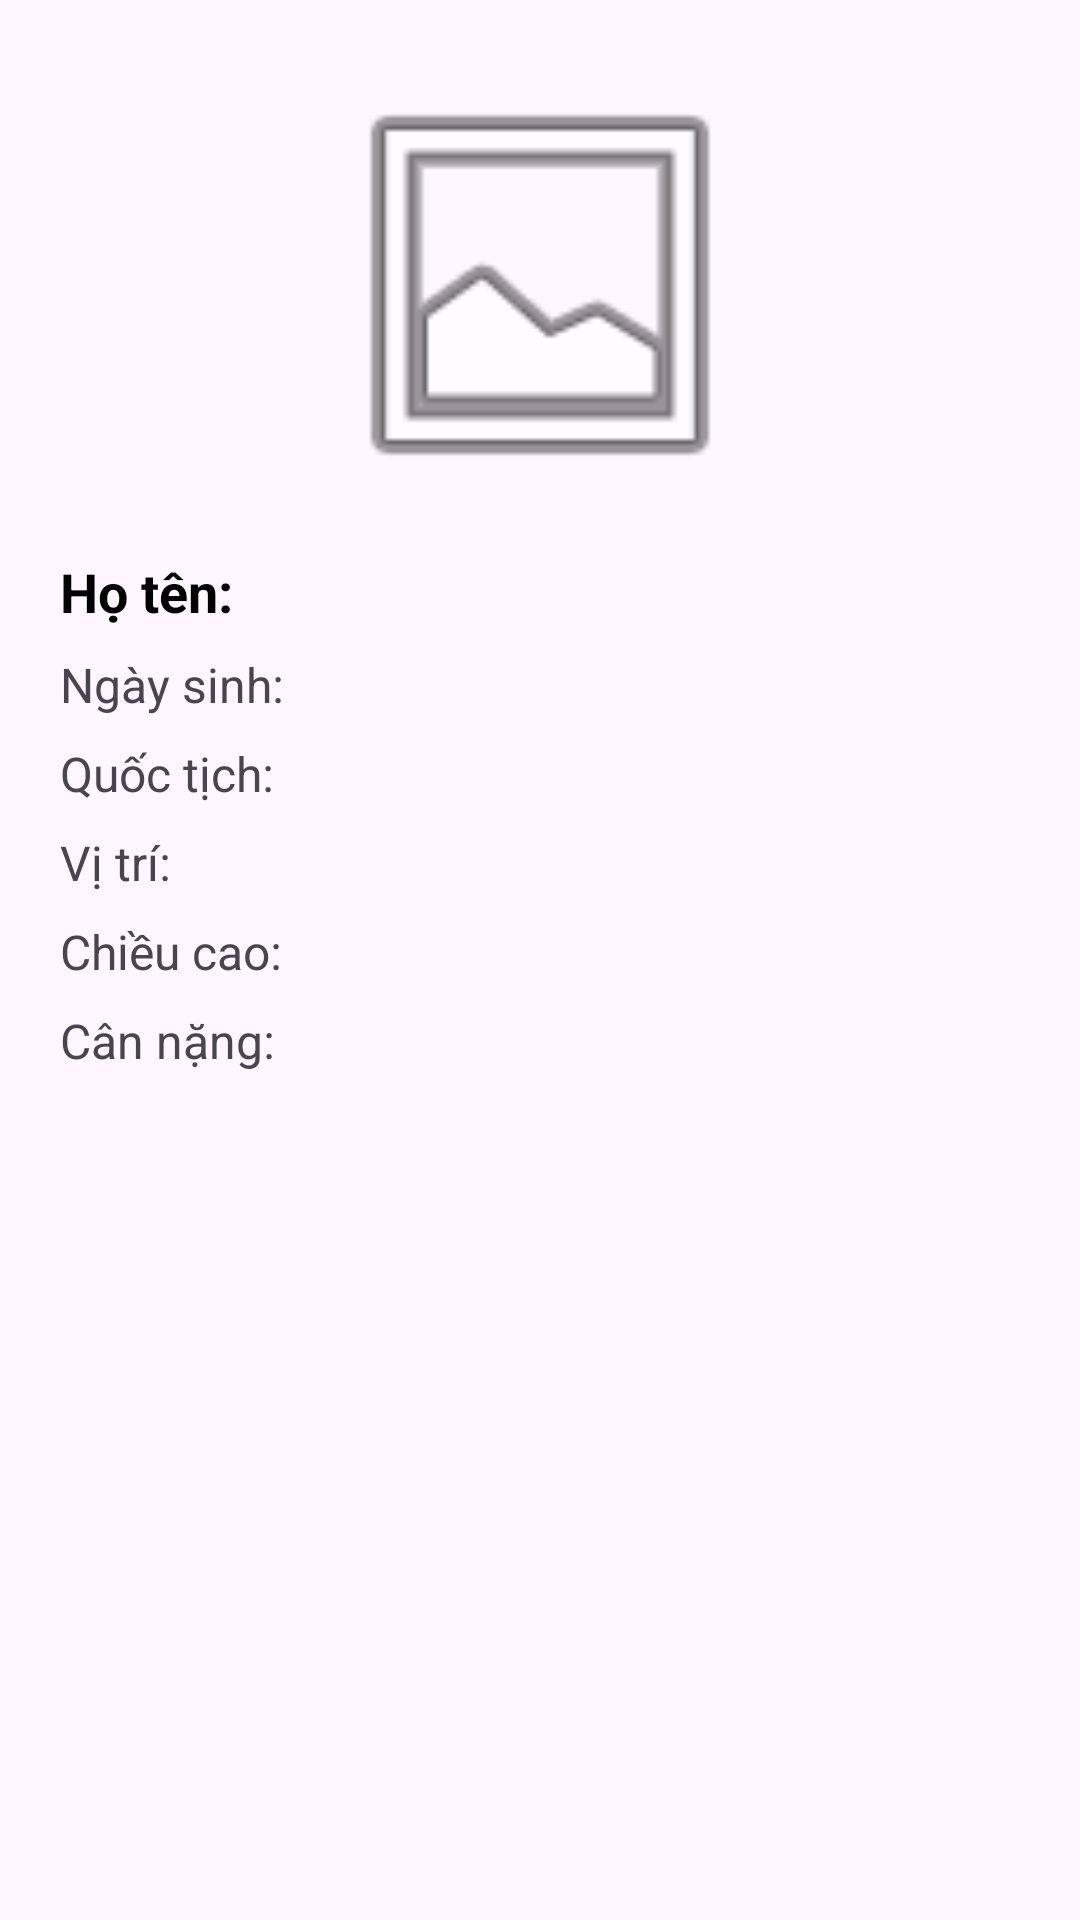

Named icons in this screenshot (1080w x 1920h) and their bounding boxes, (x1, y1, x2, y2):
gallery: (370, 115, 710, 455)
